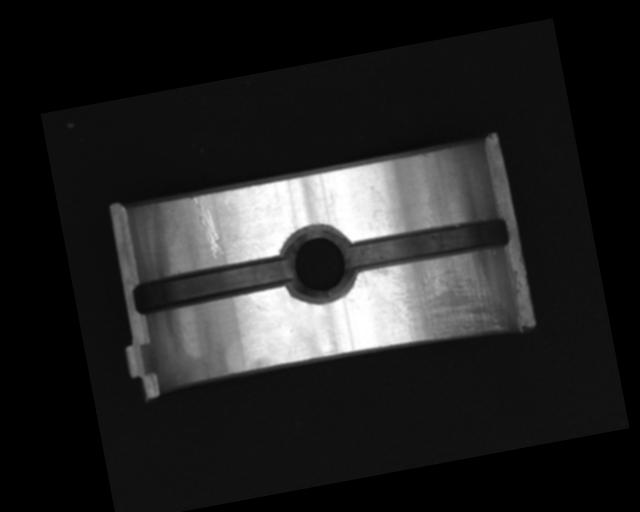gap: (344, 212, 510, 276), (130, 253, 292, 316)
hole: (276, 222, 361, 309)
nick: (191, 191, 225, 261)
scratch: (375, 246, 514, 356)
